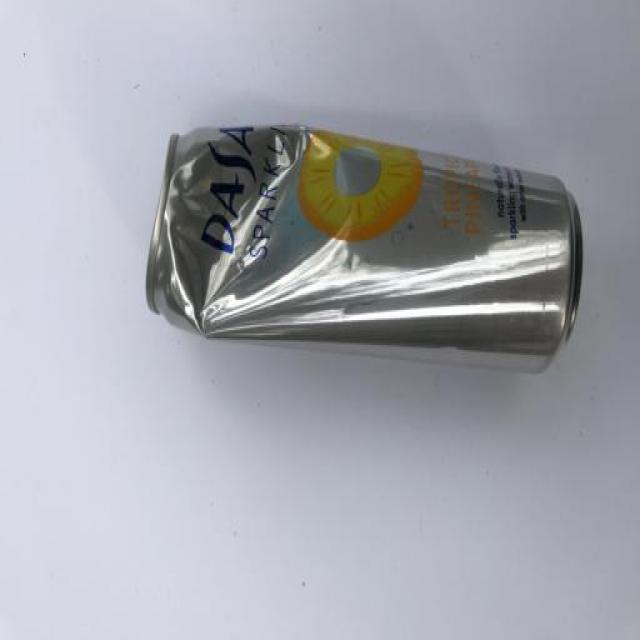metel: (147, 115, 601, 410)
